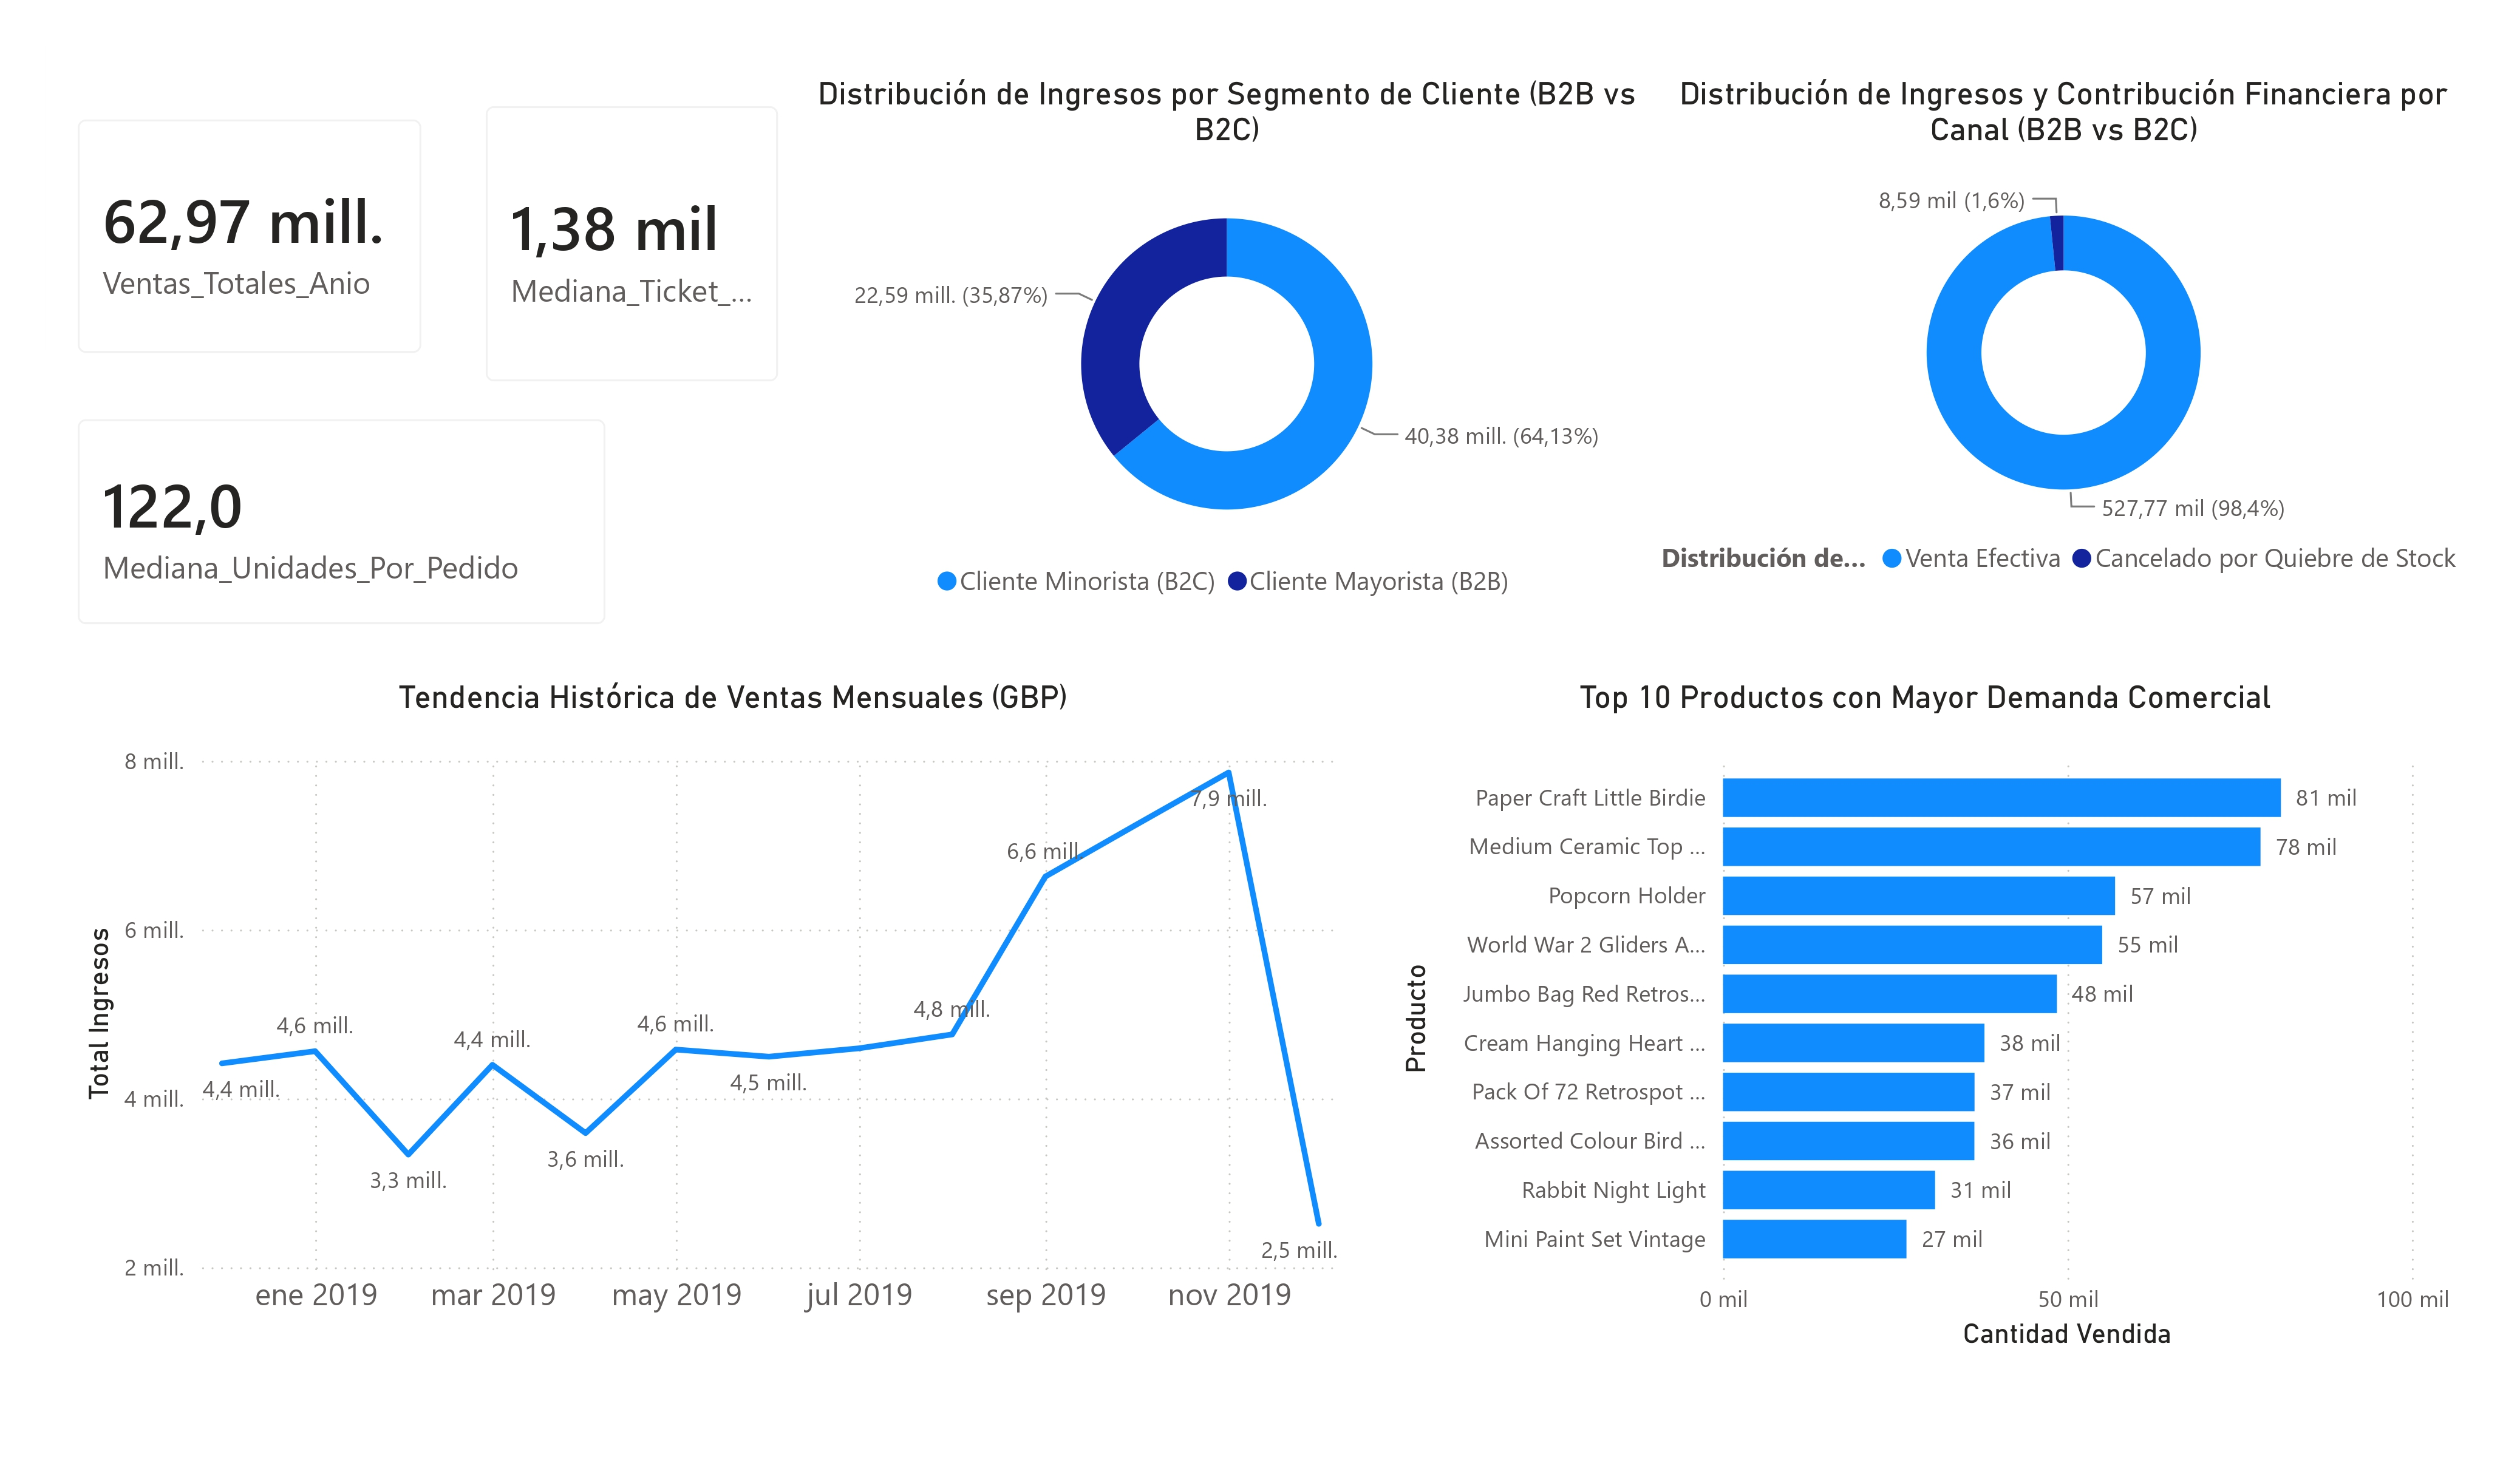

This screenshot's page, from the dashboard's own definition file:
{"tool":"powerbi","page":{"name":"Página 1","canvas":[1280,720],"ordinal":0},"visuals":[{"type":"lineChart","title":"Tendencia Histórica de Ventas Mensuales (GBP)","fields":{"Y":["Sum(Sales Transaction v 4a.Venta_Total)"],"Category":["Sales Transaction v 4a.Date.Variación.Jerarquía de fechas.Año","Sales Transaction v 4a.Date.Variación.Jerarquía de fechas.Mes"]},"box":[15.1,332.6,693.5,359.7],"z":0},{"type":"barChart","title":"Top 10 Productos con Mayor Demanda Comercial","fields":{"Category":["Sales Transaction v 4a.ProductName"],"Y":["Sum(Sales Transaction v 4a.Quantity)"]},"box":[708.9,332.6,562.7,359.5],"z":1000},{"type":"donutChart","title":"Distribución de Ingresos por Segmento de Cliente (B2B vs B2C)","fields":{"Category":["Sales Transaction v 4a.Segmento_Cliente"],"Y":["Sum(Sales Transaction v 4a.Venta_Total)"]},"box":[398.1,15.1,448.5,285.6],"z":2000},{"type":"donutChart","title":"Distribución de Ingresos y Contribución Financiera por Canal (B2B vs B2C)","fields":{"Category":["Sales Transaction v 4a.Estado_Transaccion"],"Y":["CountNonNull(Sales Transaction v 4a.Date)"]},"box":[846.6,15.1,433.4,273.8],"z":3000},{"type":"cardVisual","fields":{"Data":["Sales Transaction v 4a.Ventas_Totales_Anio"]},"box":[0,21.8,215,157.9],"z":4000},{"type":"cardVisual","fields":{"Data":["Sales Transaction v 4a.Promedio_Unidades_Por_Pedido"]},"box":[0,179.7,312.4,142.8],"z":5000},{"type":"cardVisual","fields":{"Data":["Sales Transaction v 4a.Mediana_Ticket_Pedido"]},"box":[215,15.1,188.1,179.7],"z":6000}]}

Visuals, with their boxes on the page's 1280x720 design canvas (x1, y1, x2, y2). These are canvas units, not pixel positions in the 2520x1457 screenshot, which may show the page scaled, cropped or inside an application window:
"Tendencia Histórica de Ventas Mensuales (GBP)" lineChart: rect(15, 333, 709, 692)
"Top 10 Productos con Mayor Demanda Comercial" barChart: rect(709, 333, 1272, 692)
"Distribución de Ingresos por Segmento de Cliente (B2B vs B2C)" donutChart: rect(398, 15, 847, 301)
"Distribución de Ingresos y Contribución Financiera por Canal (B2B vs B2C)" donutChart: rect(847, 15, 1280, 289)
cardVisual - Sales Transaction v 4a.Ventas_Totales_Anio: rect(0, 22, 215, 180)
cardVisual - Sales Transaction v 4a.Promedio_Unidades_Por_Pedido: rect(0, 180, 312, 322)
cardVisual - Sales Transaction v 4a.Mediana_Ticket_Pedido: rect(215, 15, 403, 195)
